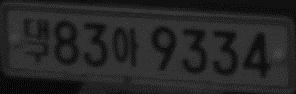3: (211, 29, 239, 76), (181, 28, 207, 74), (82, 22, 108, 67)
4: (243, 31, 271, 79)
8: (53, 19, 80, 66)
9: (150, 24, 177, 70)
대구_V: (23, 17, 49, 63)
아: (112, 26, 140, 67)
